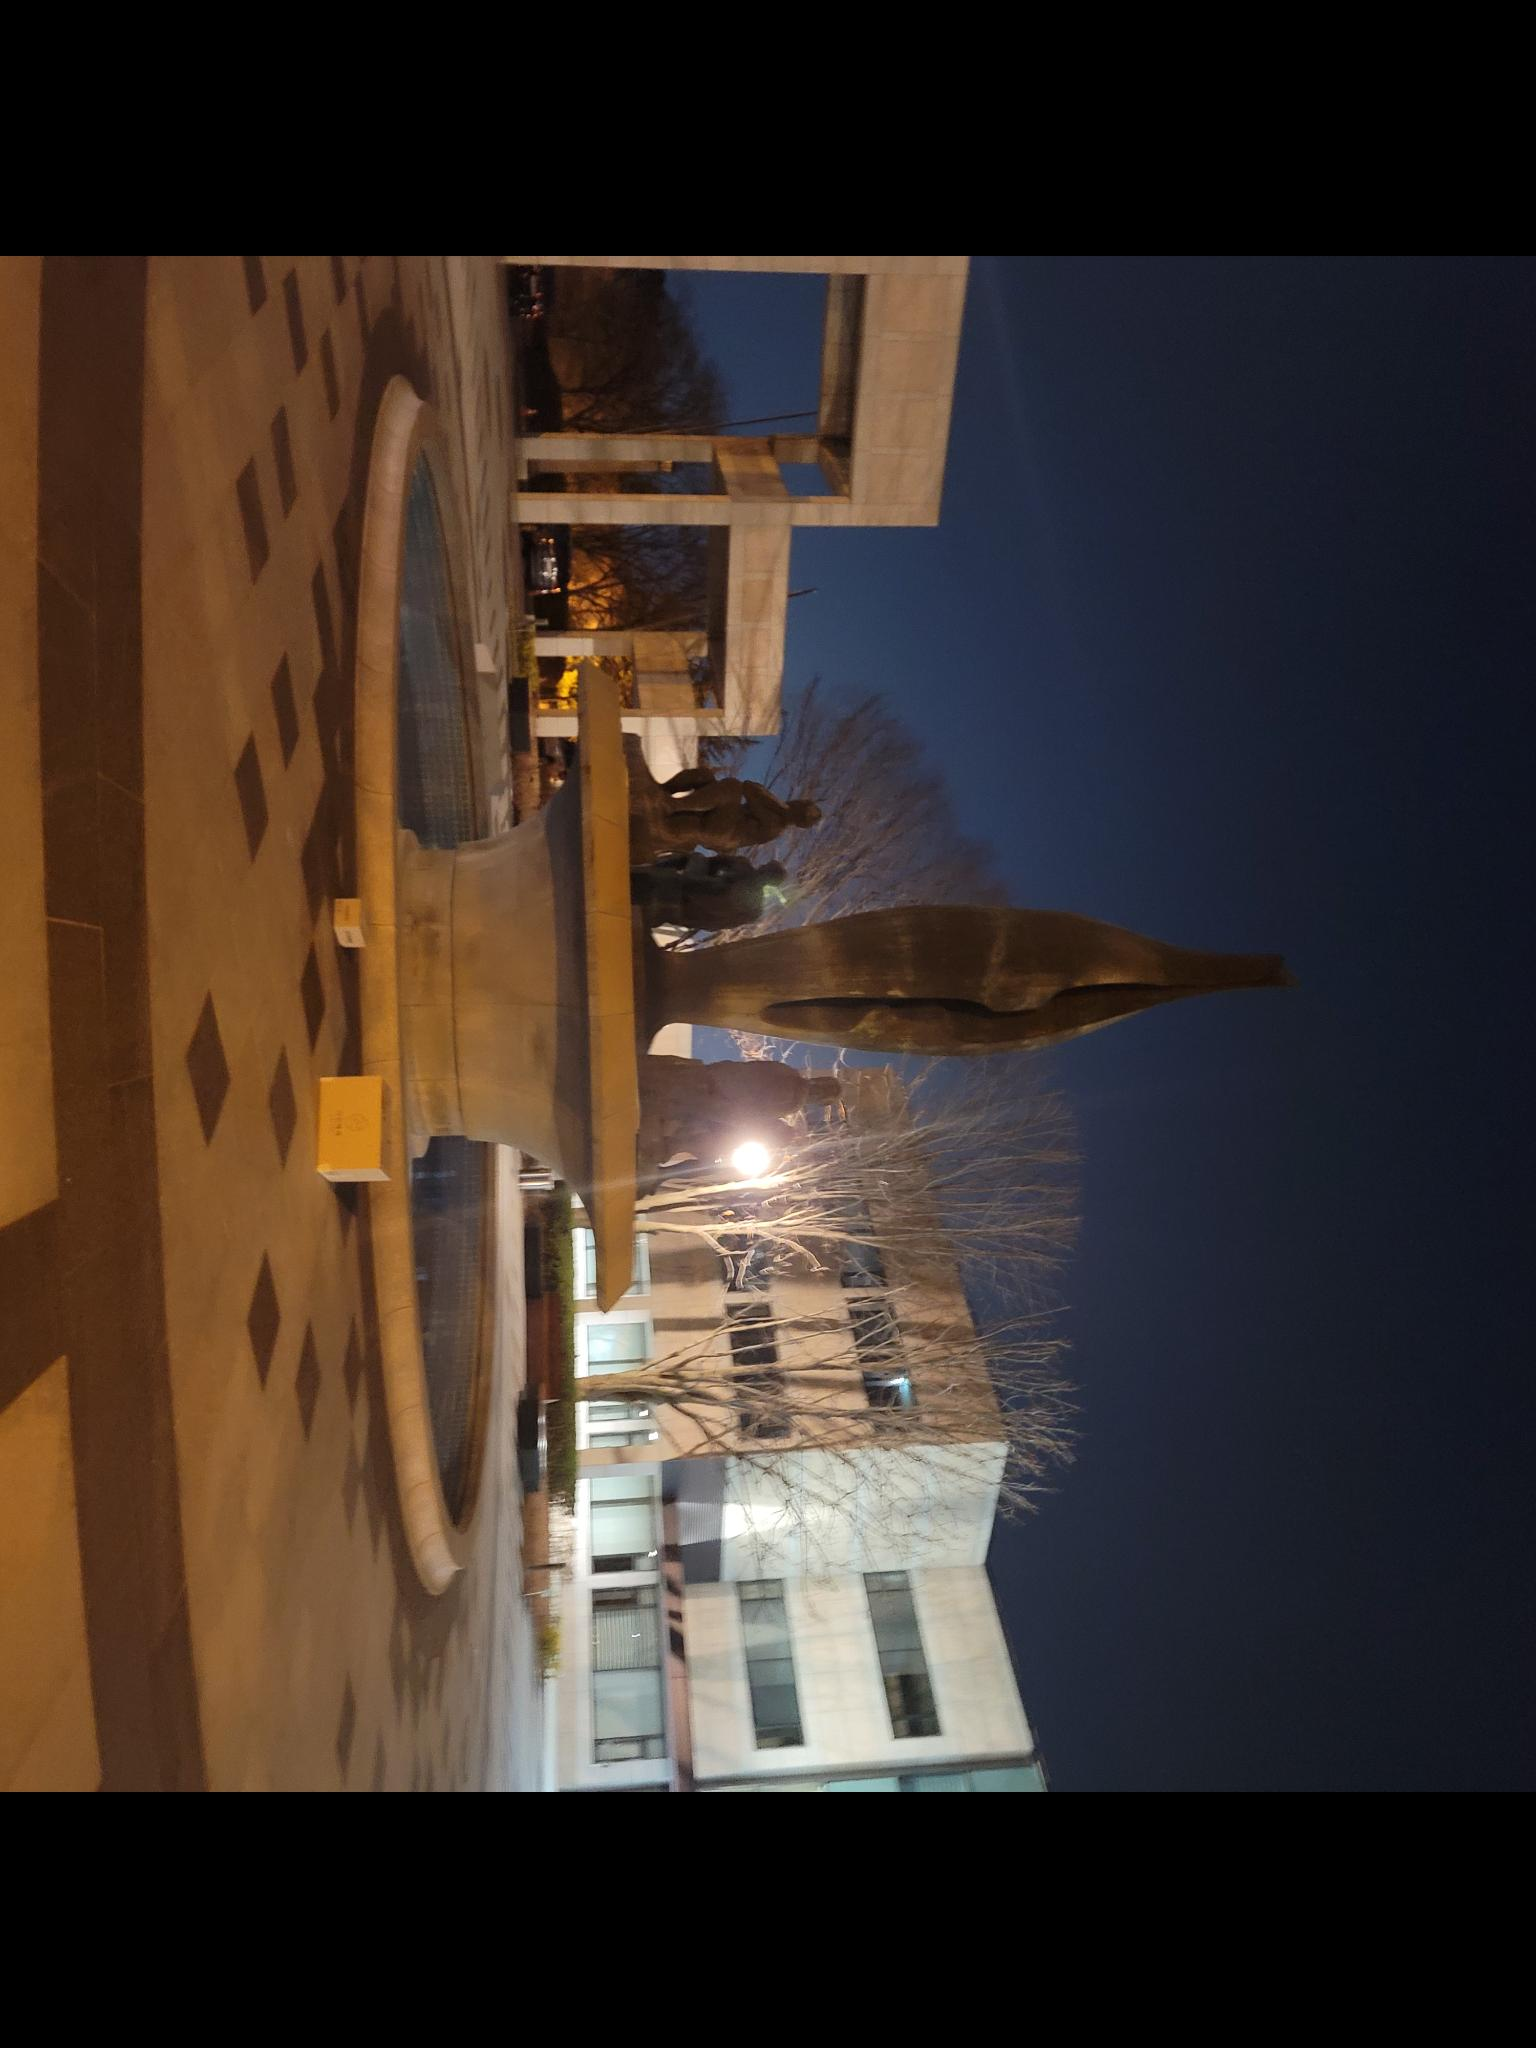Box: (308, 1064, 411, 1198), (328, 882, 379, 958)
